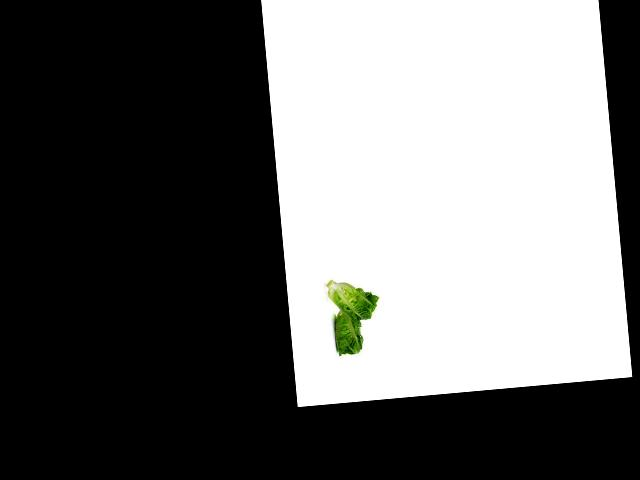lettuce: (322, 275, 379, 328)
